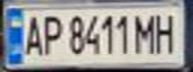1: (100, 11, 118, 54), (115, 11, 133, 54)
4: (81, 11, 100, 55)
8: (63, 11, 87, 56)
A: (18, 11, 45, 56)
H: (151, 9, 181, 55)
M: (133, 10, 160, 55)
P: (39, 11, 66, 56)
